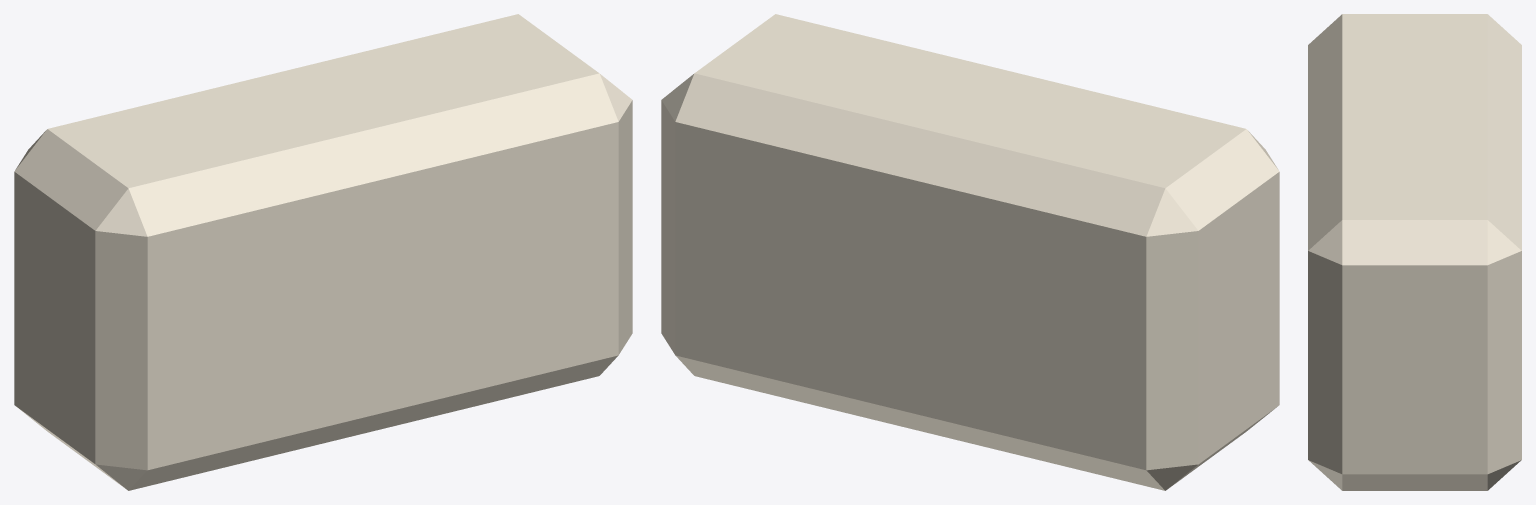
Rendered from orb4_gag_shard_ivory.glb.
3 views of the same model, side by side, from view 1: azimuth 30°, elevation 25°; view 2: azimuth 150°, elevation 25°; view 3: azimuth 270°, elevation 25° (orthographic). The views are drawn at different scales.
Parts seen in each view (by area): view 1: orb4_gag_shard_ivory__orb3-ivory-ceramic; view 2: orb4_gag_shard_ivory__orb3-ivory-ceramic; view 3: orb4_gag_shard_ivory__orb3-ivory-ceramic.
Boxes of the visible parts, x1,y1,x2,y2 form: orb4_gag_shard_ivory__orb3-ivory-ceramic: [14, 14, 632, 490]; orb4_gag_shard_ivory__orb3-ivory-ceramic: [661, 14, 1279, 490]; orb4_gag_shard_ivory__orb3-ivory-ceramic: [1308, 14, 1521, 490].
Bounding box in the file's own units: 1.3 × 0.7 × 0.5.
